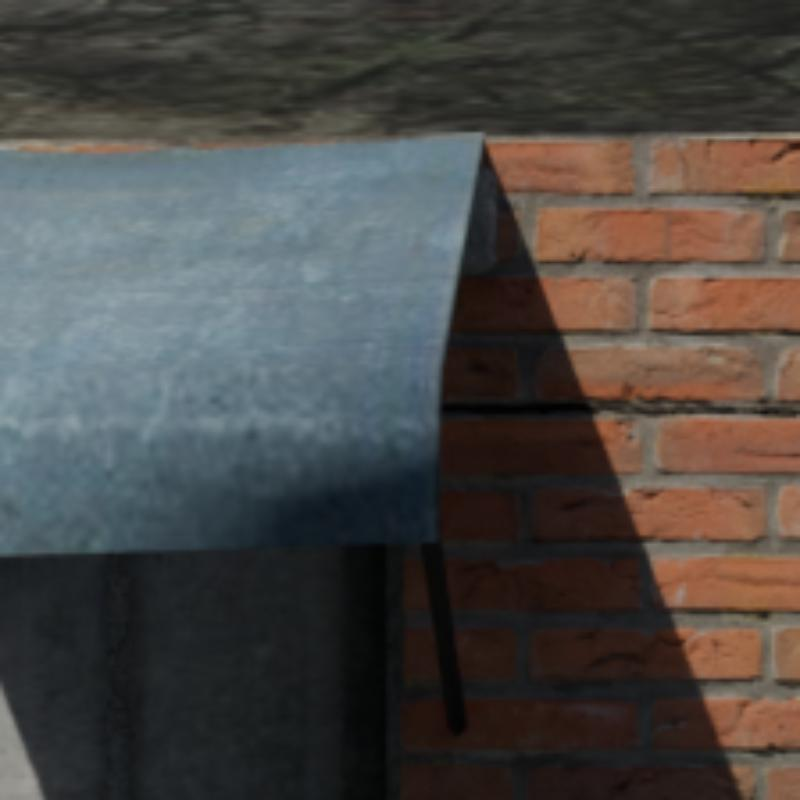crack: (439, 404, 636, 408), (700, 411, 796, 414), (636, 408, 700, 411)
